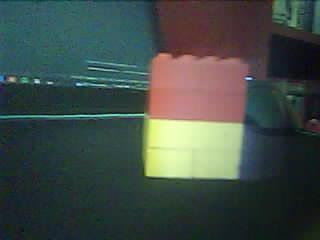lego: (141, 53, 248, 179)
